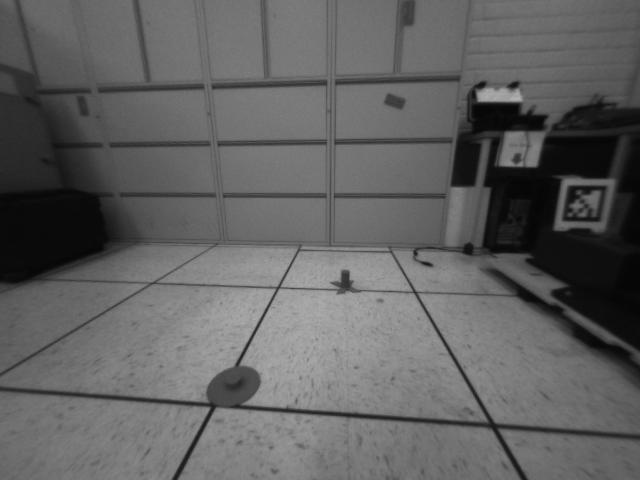X: (330, 269, 359, 292)
